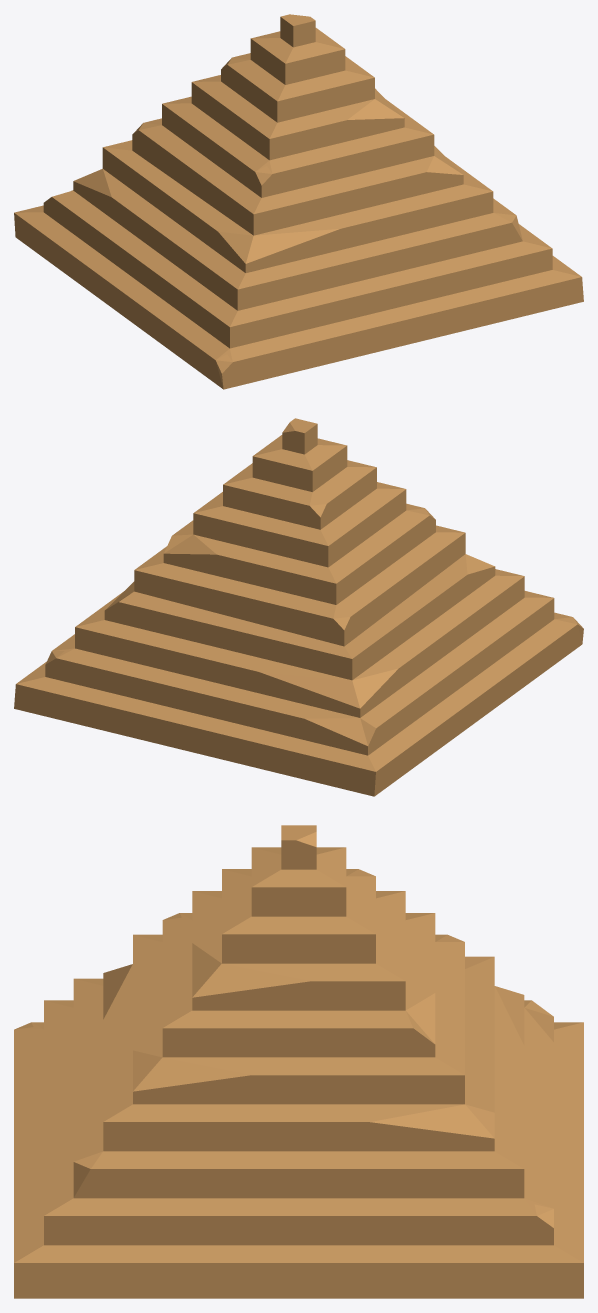
The model's file is egypt_pyramid-old.fbx.
The picture shows the model from 3 angles, top to bottom: view 1: azimuth 30°, elevation 25°; view 2: azimuth 150°, elevation 25°; view 3: azimuth 270°, elevation 25°; orthographic projection. The views are drawn at different scales.
Visible parts, largest first — view 1: egypt_pyramid_old; view 2: egypt_pyramid_old; view 3: egypt_pyramid_old.
Part boxes in pixels (<box>): egypt_pyramid_old: <box>14,14,583,389</box>; egypt_pyramid_old: <box>14,418,583,796</box>; egypt_pyramid_old: <box>14,825,583,1298</box>.
Bounding box in the file's own units: 200 × 133 × 199.
